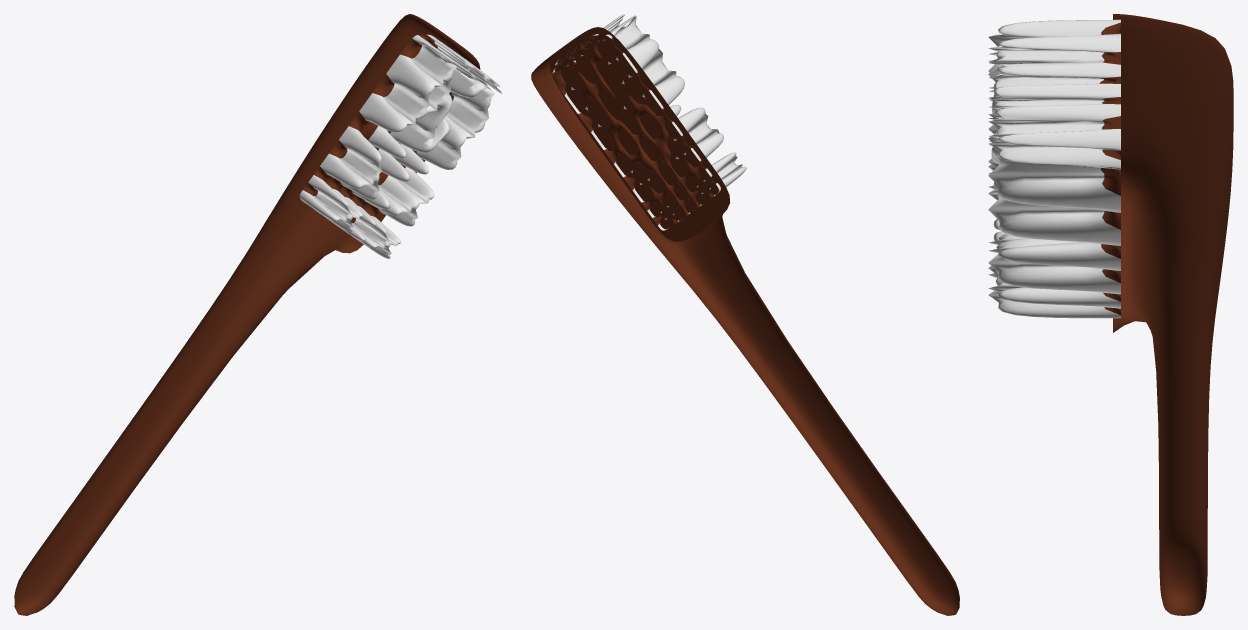
The model's file is firca.fbx.
3 views of the same model, side by side, from view 1: azimuth 30°, elevation 25°; view 2: azimuth 150°, elevation 25°; view 3: azimuth 270°, elevation 25° (orthographic). The views are drawn at different scales.
Visible parts, largest first — view 1: Brush; view 2: Brush; view 3: Brush.
Part boxes in pixels (x1,y1,x2,y2): Brush: (14, 14, 502, 615); Brush: (531, 14, 959, 615); Brush: (988, 14, 1233, 615).
Size of the model in its own units: 10.25 by 11.13 by 2.64.
